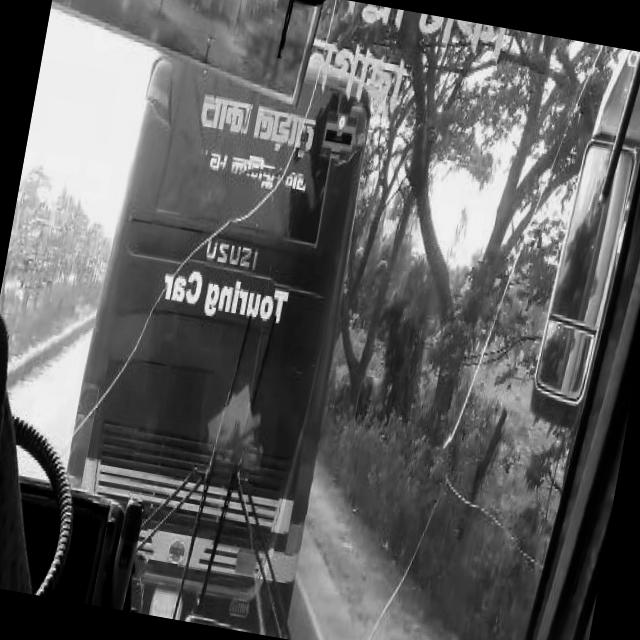bus: (42, 48, 378, 624), (16, 218, 66, 288)
